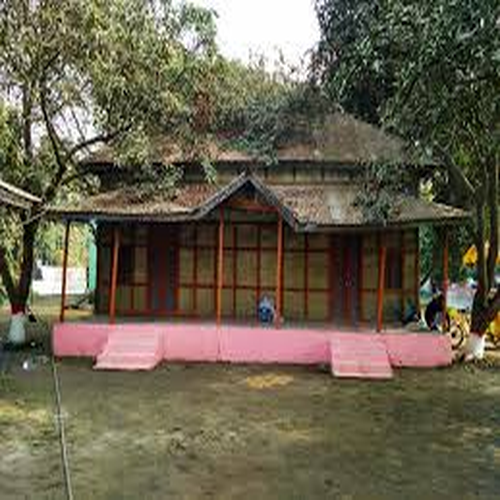Tin-shade House: (56, 91, 470, 347)
